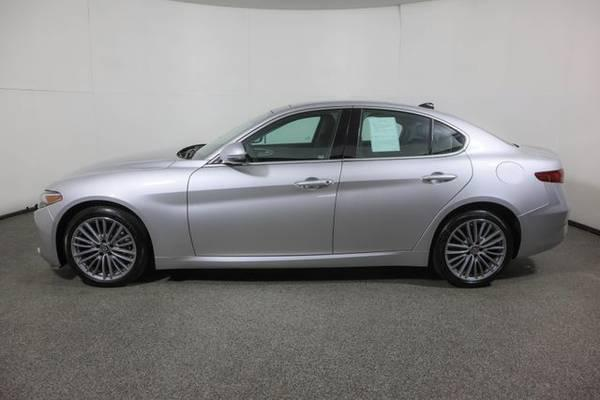Front_Bumper: (34, 214, 58, 279)
Front_Fender: (45, 164, 198, 266)
Front_Left_Door: (183, 158, 341, 266)
Front_Left_Window: (209, 109, 350, 162)
Left_Headlight: (35, 192, 64, 219)
Left_Taillight: (540, 168, 572, 185)
Rear_Bumper: (518, 183, 571, 262)
Rear_Fender: (463, 146, 557, 215)
Rear_Left_Door: (334, 151, 472, 263)
Rear_Left_Window: (340, 109, 465, 158)
Roof: (208, 99, 515, 158)
Wheel: (61, 204, 143, 287), (435, 206, 515, 286)
